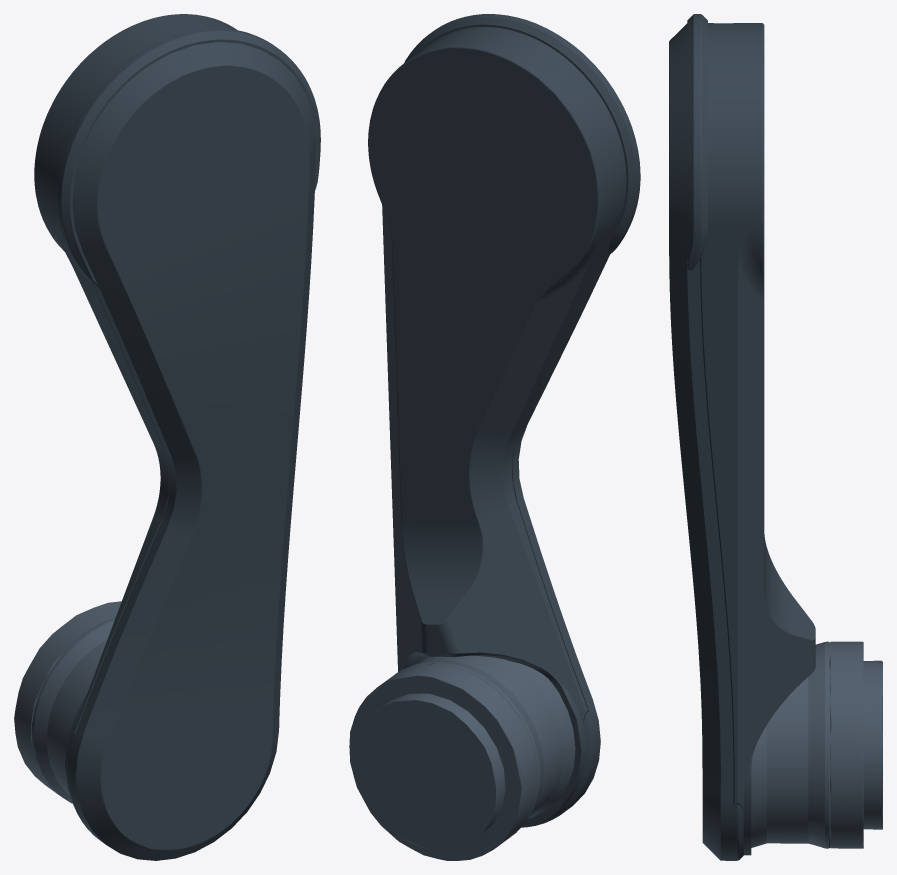
Rendered from fl_knee.dae.
The picture shows the model from 3 angles, left to right: view 1: azimuth 30°, elevation 25°; view 2: azimuth 150°, elevation 25°; view 3: azimuth 270°, elevation 25°; orthographic projection. The views are drawn at different scales.
Parts seen in each view (by area): view 1: 圆角1, 移动面10, 切除-拉伸49, 圆角16; view 2: 移动面10, 圆角16, 圆角1, 切除-拉伸49; view 3: 移动面10, 圆角1, 切除-拉伸49, 圆角16.
Part boxes in pixels (bbox=[...]): 圆角1: bbox=[57, 28, 320, 860]; 移动面10: bbox=[34, 14, 237, 791]; 切除-拉伸49: bbox=[31, 618, 114, 803]; 圆角16: bbox=[14, 601, 121, 795]; 移动面10: bbox=[368, 26, 626, 825]; 圆角16: bbox=[349, 664, 537, 860]; 圆角1: bbox=[404, 14, 640, 827]; 切除-拉伸49: bbox=[396, 655, 575, 834]; 移动面10: bbox=[700, 23, 815, 855]; 圆角1: bbox=[669, 14, 743, 860]; 切除-拉伸49: bbox=[751, 641, 830, 848]; 圆角16: bbox=[830, 641, 882, 848].
Size of the model in its own units: 115 by 83.1 by 352.
